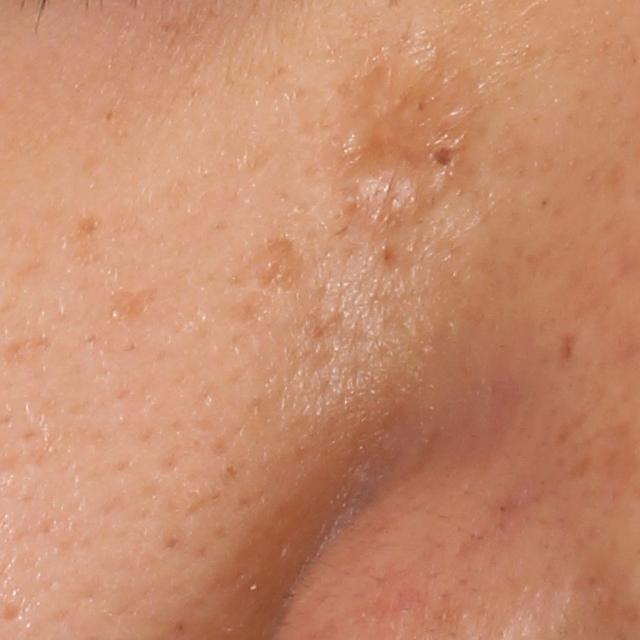other: (321, 38, 492, 243)
